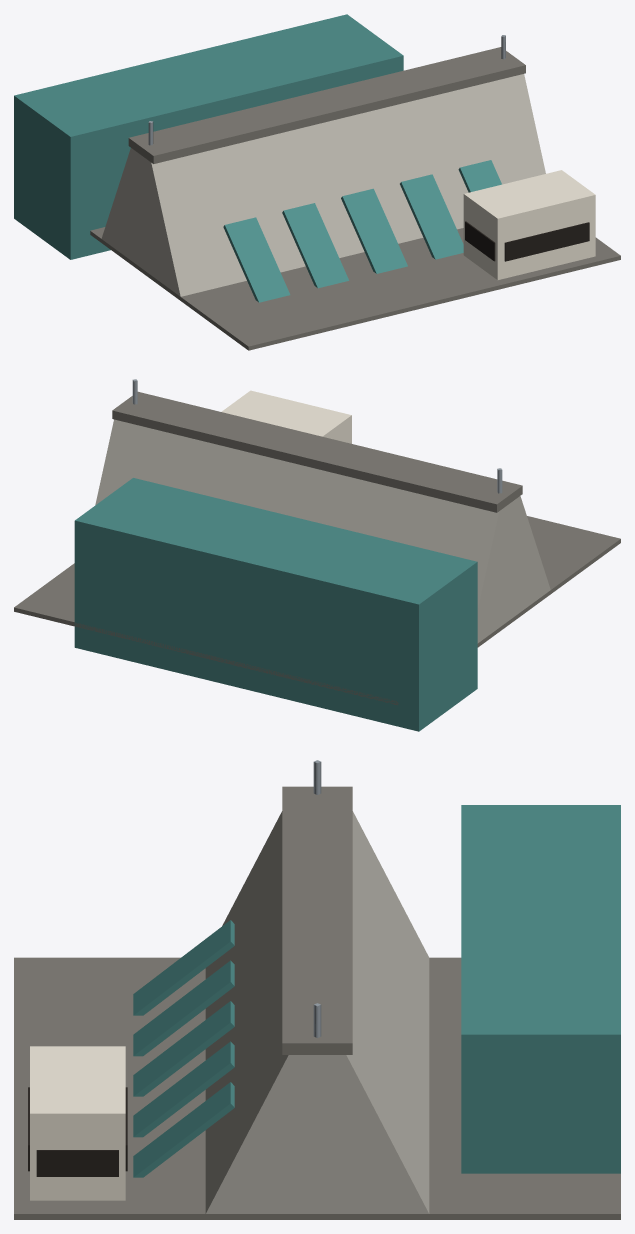
The model's file is building_empangan.glb.
3 renders of one model, top to bottom at view 1: azimuth 30°, elevation 25°; view 2: azimuth 150°, elevation 25°; view 3: azimuth 270°, elevation 25°, orthographic. The views are drawn at different scales.
Parts seen in each view (by area): view 1: building_empangan; view 2: building_empangan; view 3: building_empangan.
Part boxes in pixels (x1,y1,x2,y2): building_empangan: [14, 14, 620, 350]; building_empangan: [14, 379, 620, 731]; building_empangan: [14, 760, 620, 1219].
Size of the model in its own units: 2 by 0.82 by 1.9.
